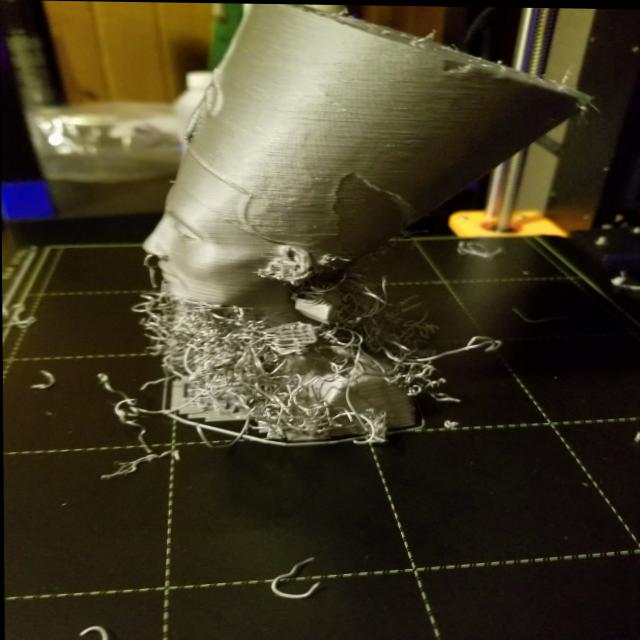spaghetti: (97, 274, 439, 476)
